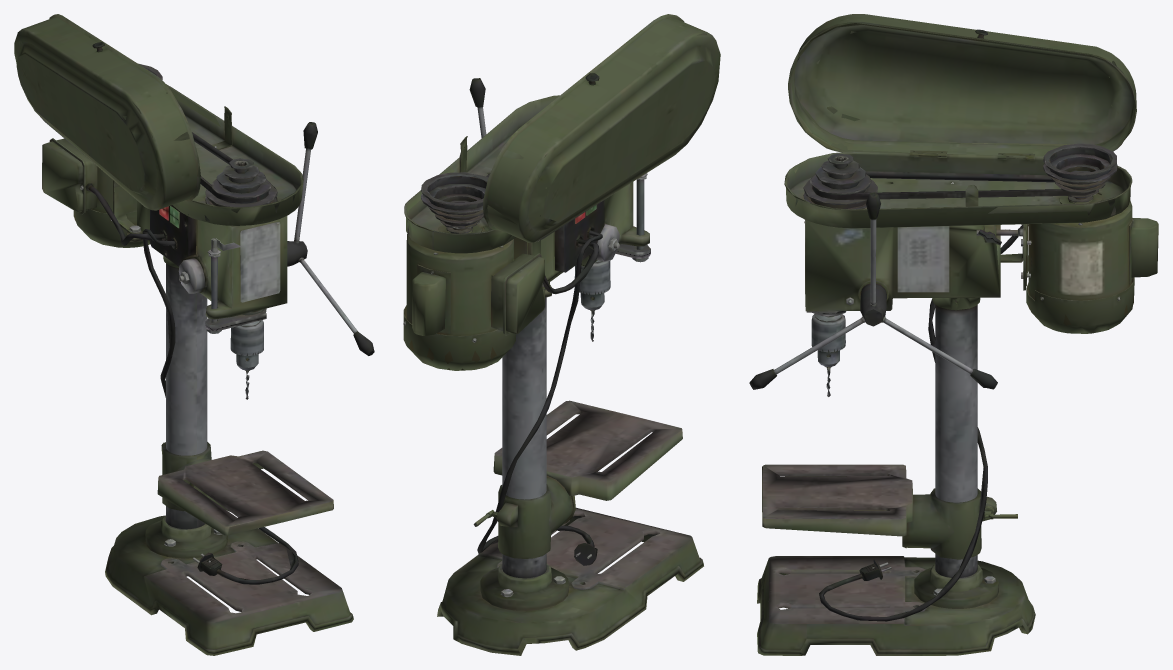
The model's file is drill_press_01.glb.
3 renders of one model, left to right at view 1: azimuth 30°, elevation 25°; view 2: azimuth 150°, elevation 25°; view 3: azimuth 270°, elevation 25°, orthographic. The views are drawn at different scales.
Visible parts, largest first — view 1: drill_press_01; view 2: drill_press_01; view 3: drill_press_01.
Part boxes in pixels (x1,y1,x2,y2): drill_press_01: (14,14,374,655); drill_press_01: (403,14,720,655); drill_press_01: (749,14,1158,655).
Size of the model in its own units: 0.3539 by 0.9011 by 0.5982.
Materials: 1 (1 with a texture image).
